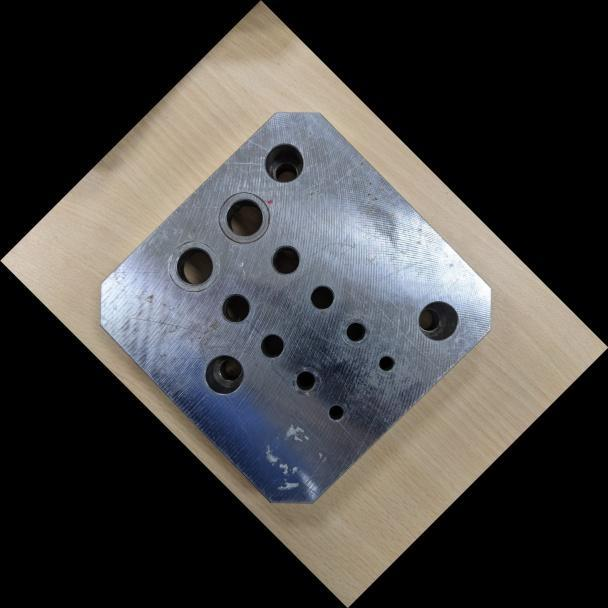hole: (198, 170, 288, 261), (150, 222, 236, 307), (401, 282, 477, 358), (247, 127, 320, 199), (188, 339, 259, 410), (256, 231, 313, 288), (206, 279, 263, 336), (277, 351, 333, 408), (296, 273, 346, 323), (247, 319, 297, 369), (332, 306, 381, 355), (364, 339, 410, 385), (314, 389, 358, 433)
